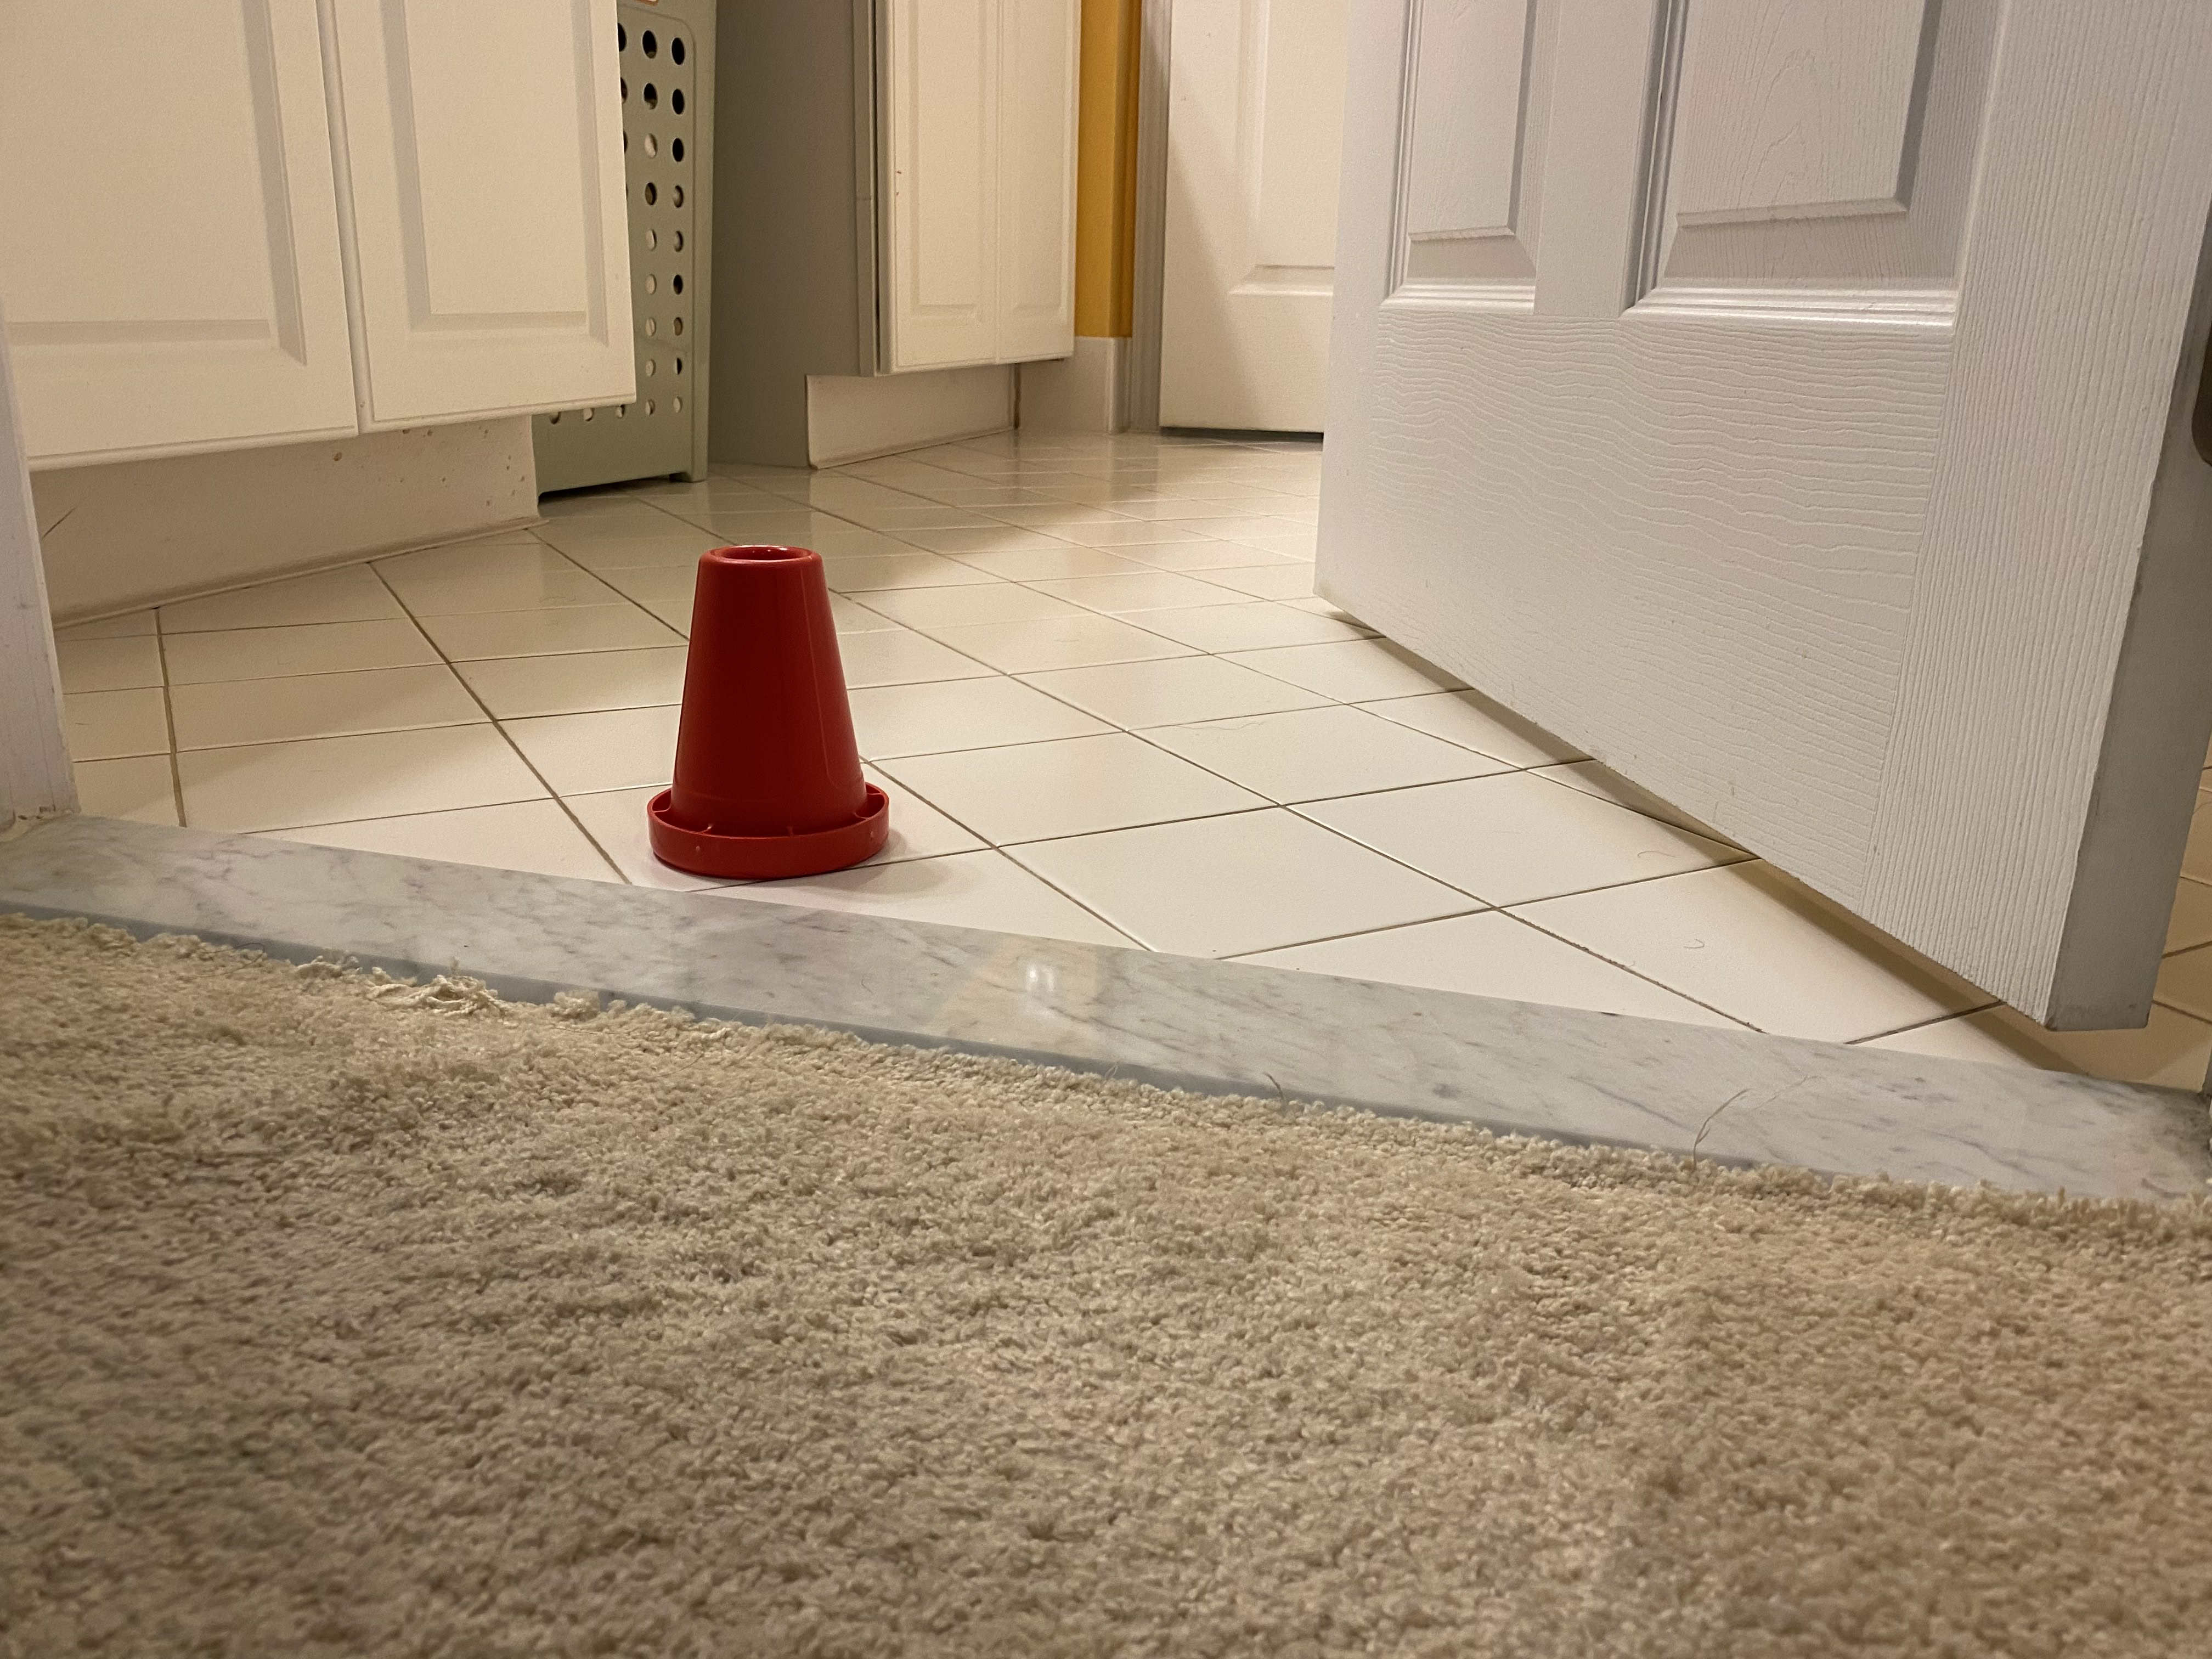redCone: (644, 542, 892, 884)
